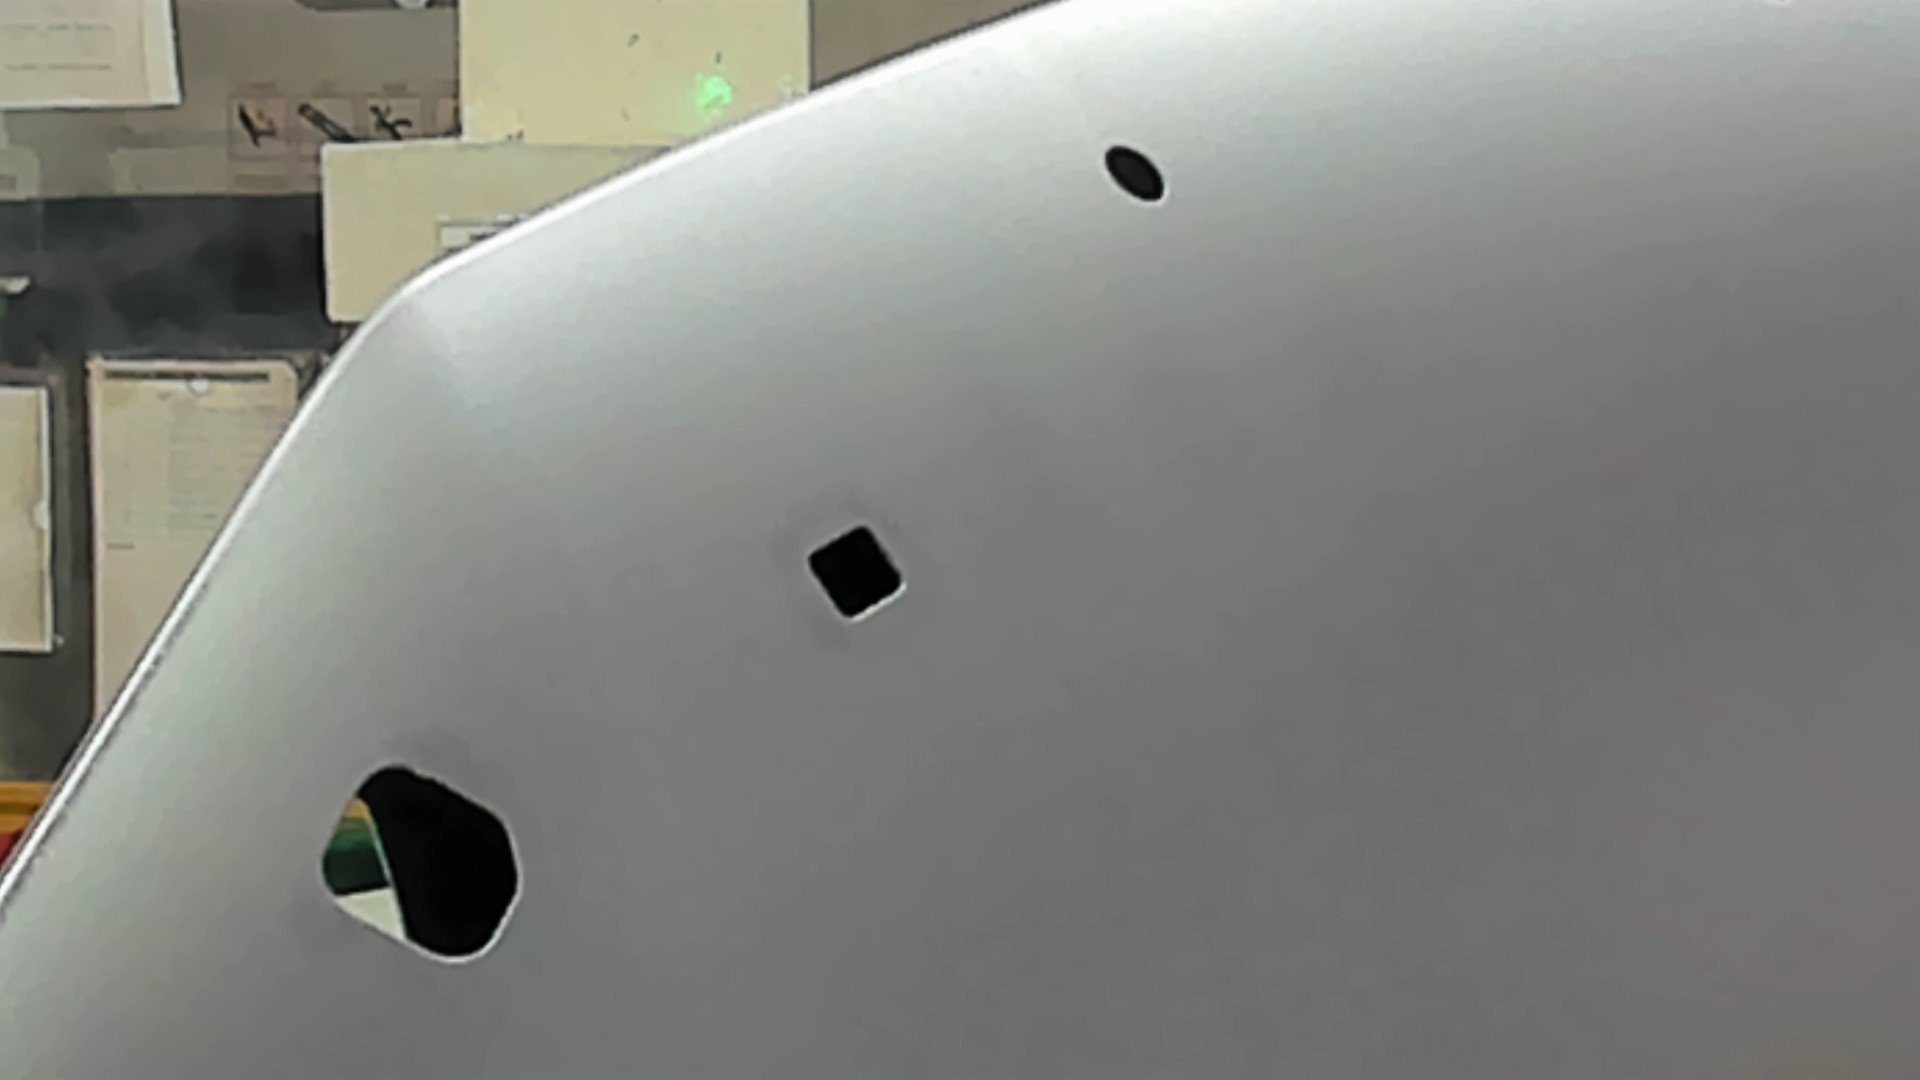chico: (1096, 135, 1171, 218)
grande: (305, 754, 535, 988)
mediano: (800, 517, 918, 636)
